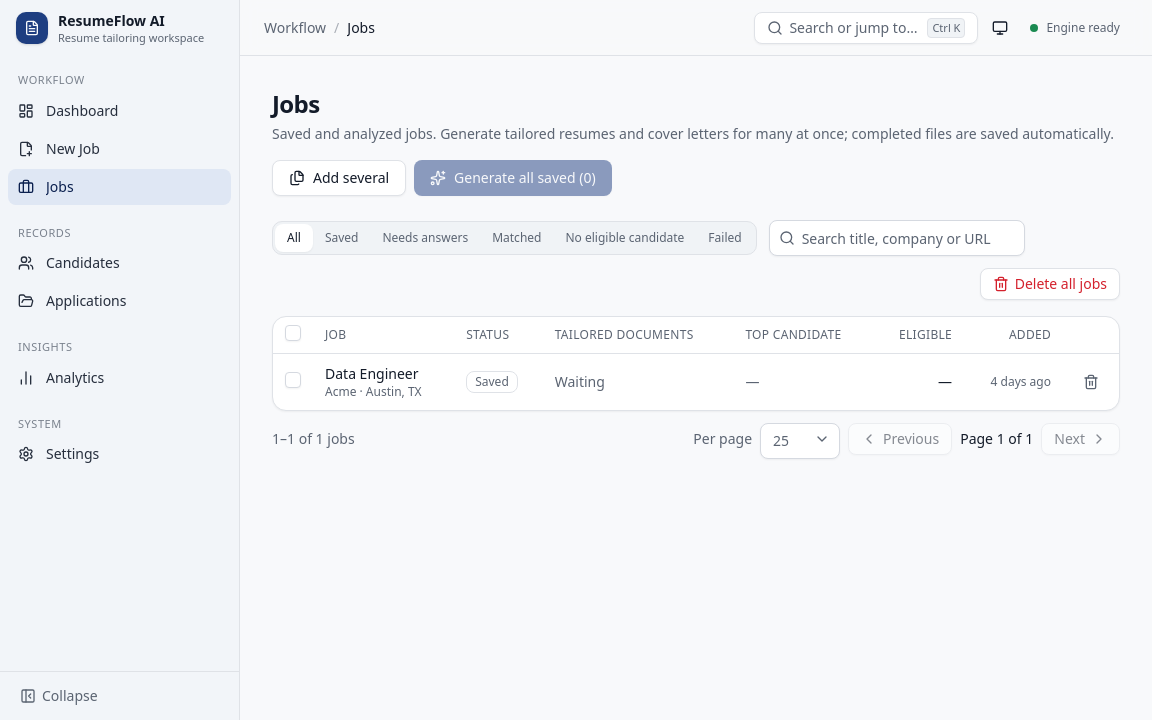
deleting jobs from the workspace › requires confirmation and can be cancelled
Click the button named "Delete Data Engineer" at (1091, 382), box [1075,366,1107,398]
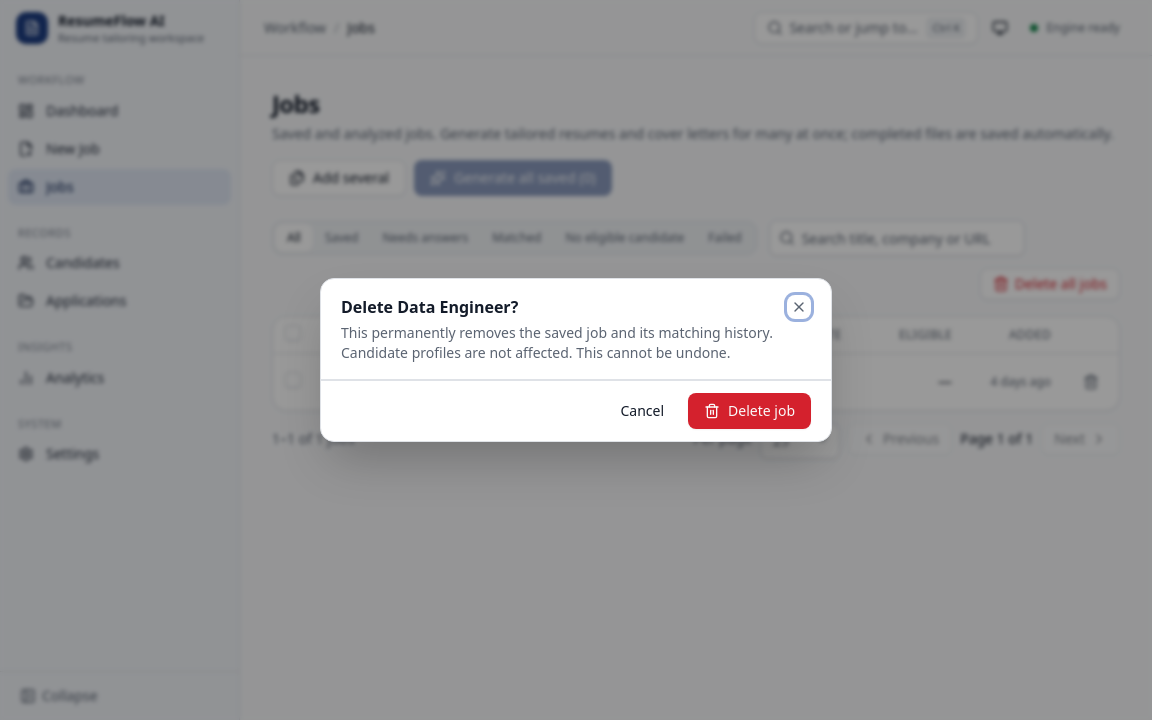
Result: the text "permanently removes the saved job and its matching history" is shown at [341,323,773,362]
Click the button "Cancel" at (642, 411), box [604,393,680,429]
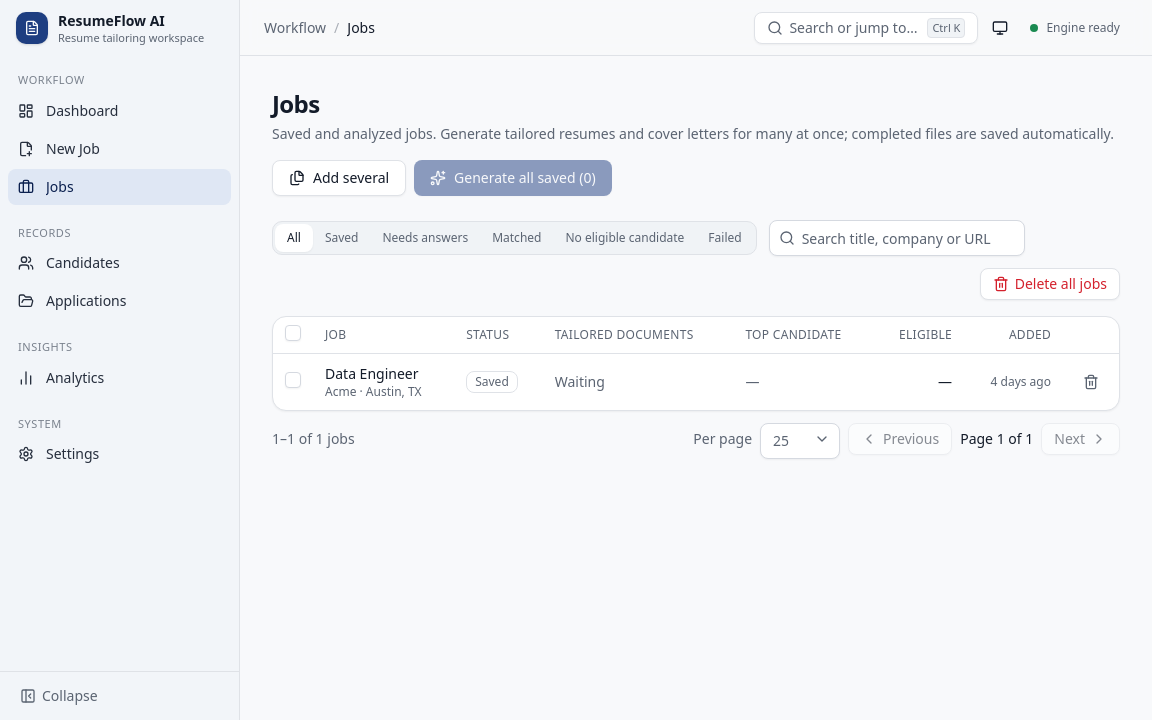
Result: the heading "Delete Data Engineer?" is gone
